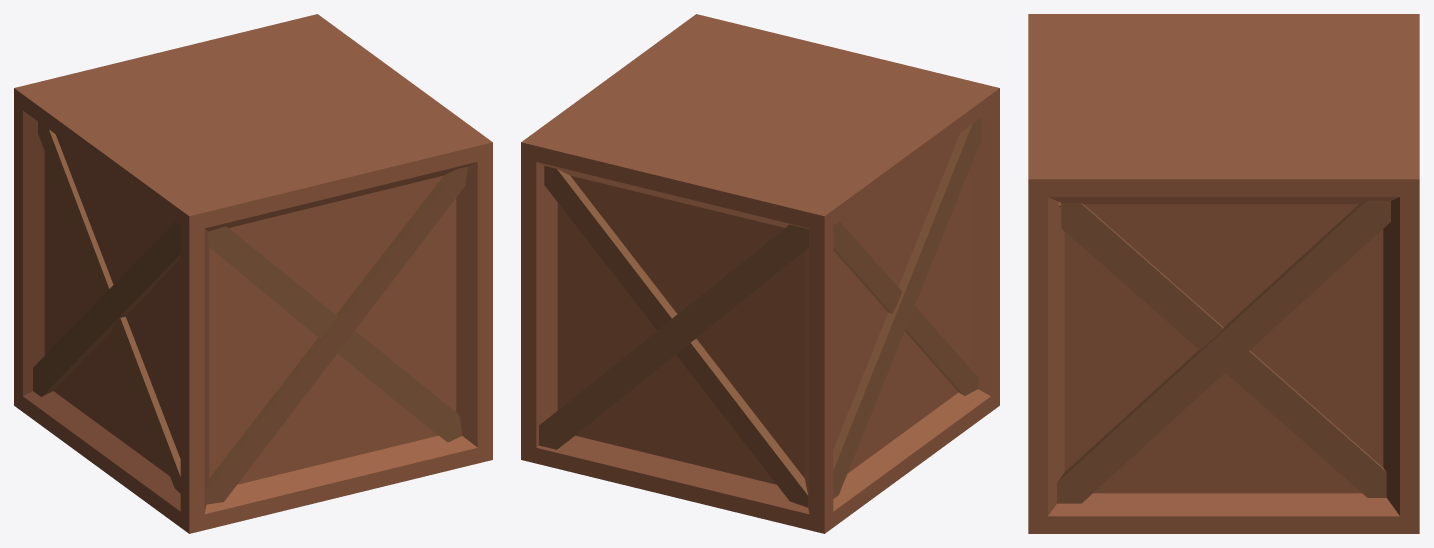
The model's file is Box_Einzelobjekt.fbx.
The picture shows the model from 3 angles, left to right: view 1: azimuth 30°, elevation 25°; view 2: azimuth 150°, elevation 25°; view 3: azimuth 270°, elevation 25°; orthographic projection. The views are drawn at different scales.
Parts seen in each view (by area): view 1: Box; view 2: Box; view 3: Box.
Boxes of the visible parts, <box> form: Box: <box>14,14,492,533</box>; Box: <box>521,14,999,533</box>; Box: <box>1028,14,1419,533</box>.
Bounding box in the file's own units: 59.42 × 59.42 × 59.42.
